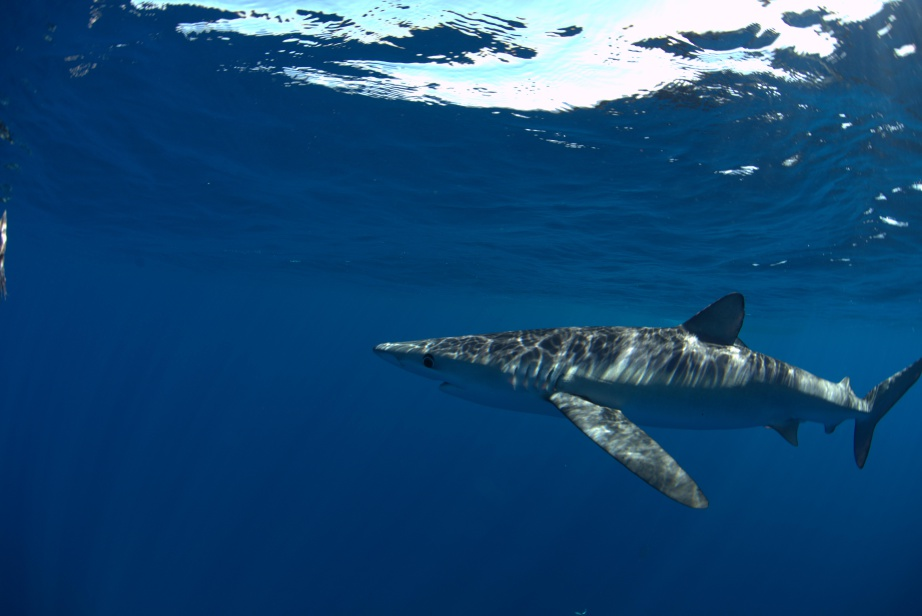Azul: (337, 269, 922, 517)
